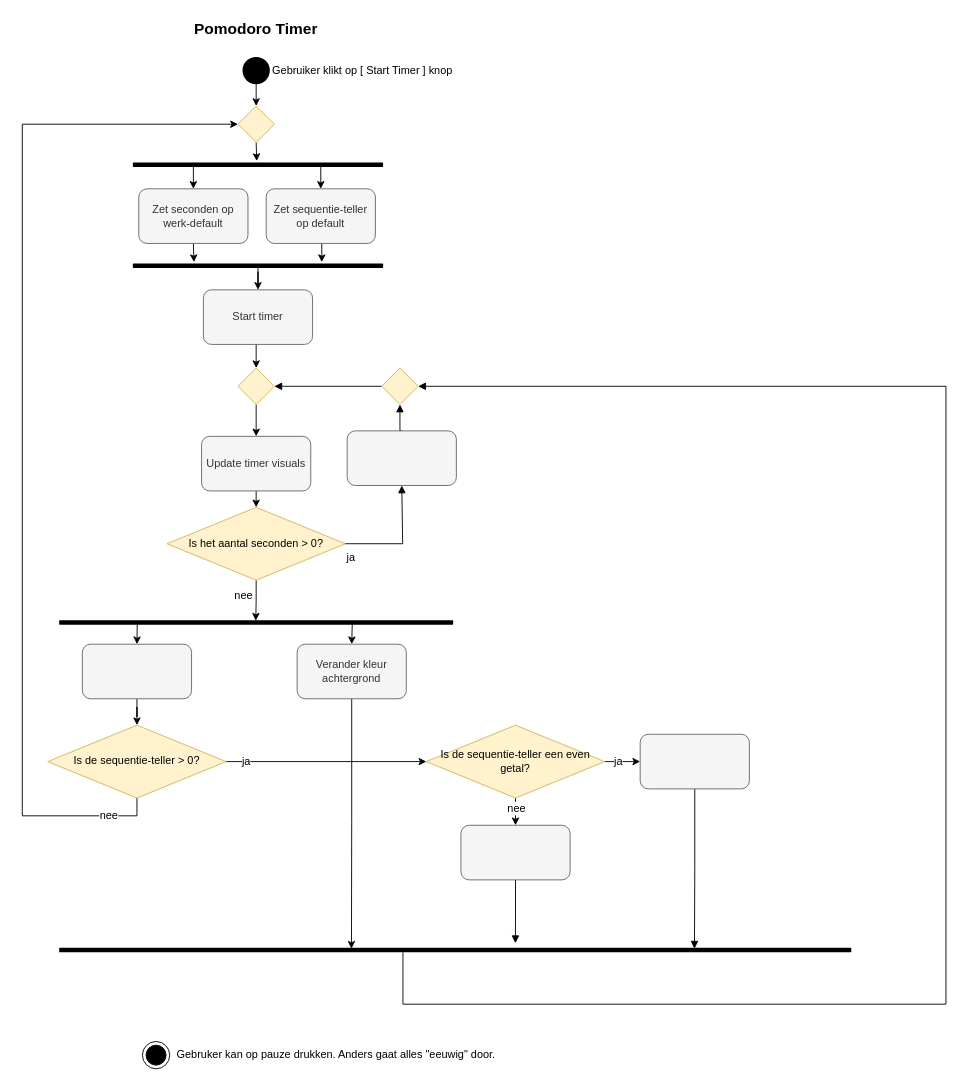
Image size: 969x1085. Some labels were removed from this diagram. Each missing label, with the centre of its shape:
Haal 1 seconde van de tijd af: [401,457]
Verlaag de sequentie-teller met 1: [136,671]
Zet timer op break-default aantal seconden: [515,852]
Zet timer op werk-default aantal seconden: [694,761]
